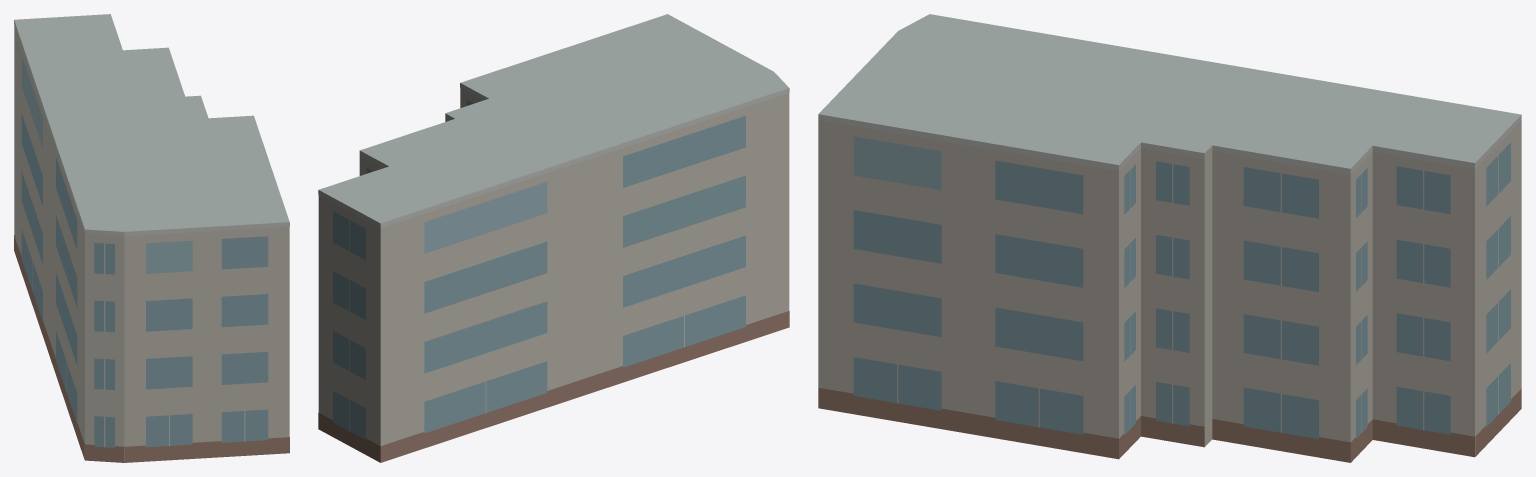
File: survey-upis-32966401.glb
3 renders of one model, left to right at view 1: azimuth 30°, elevation 25°; view 2: azimuth 150°, elevation 25°; view 3: azimuth 270°, elevation 25°, orthographic. The views are drawn at different scales.
Parts seen in each view (by area): view 1: survey-upis-32966401.tmp; view 2: survey-upis-32966401.tmp; view 3: survey-upis-32966401.tmp.
Boxes of the visible parts, bbox=[...] form: survey-upis-32966401.tmp: bbox=[14, 14, 289, 462]; survey-upis-32966401.tmp: bbox=[318, 14, 789, 462]; survey-upis-32966401.tmp: bbox=[818, 14, 1521, 462].
Size of the model in its own units: 14.01 by 12.4 by 26.89.
